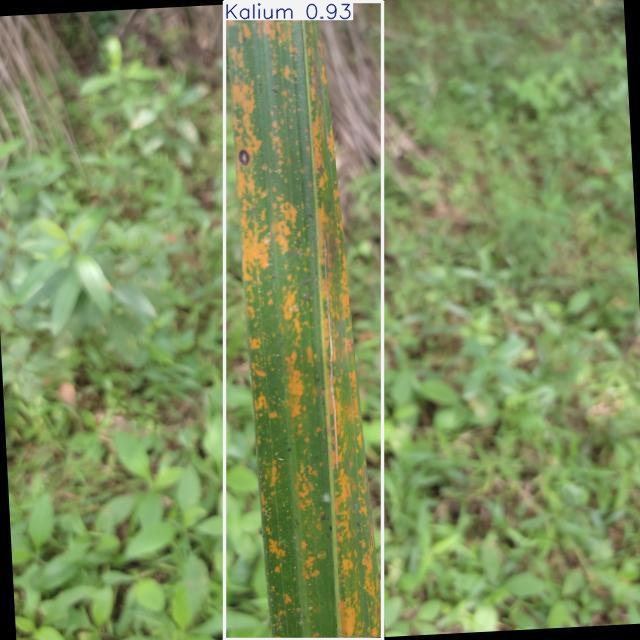Kalium: (225, 2, 383, 640)
